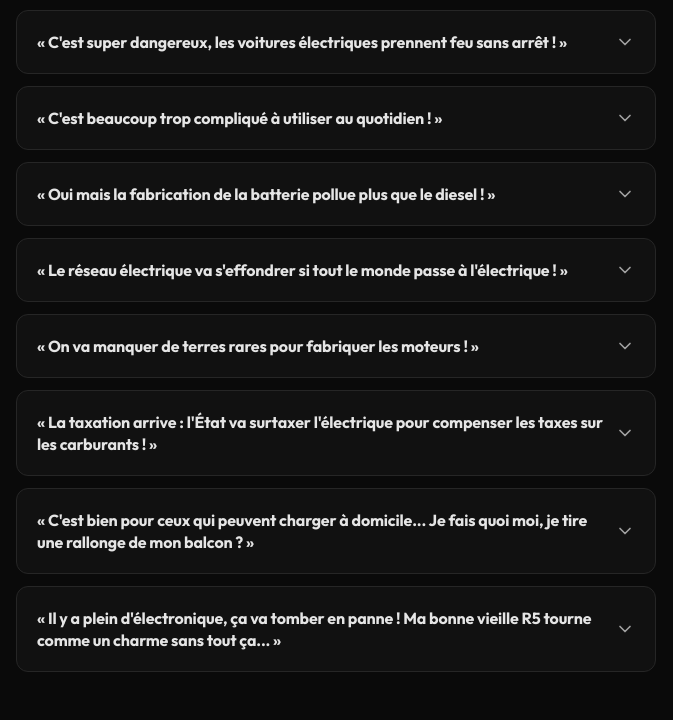
Composant AntiBiasFAQ › affiche la question sur la taxation et permet de consulter les explications et la source Automobile Propre
The image size is (673, 720).
(page scrolled)
# Clic pour ouvrir
Click the button "La taxation arrive" at (336, 433), box [17,391,655,475]
(page scrolled)
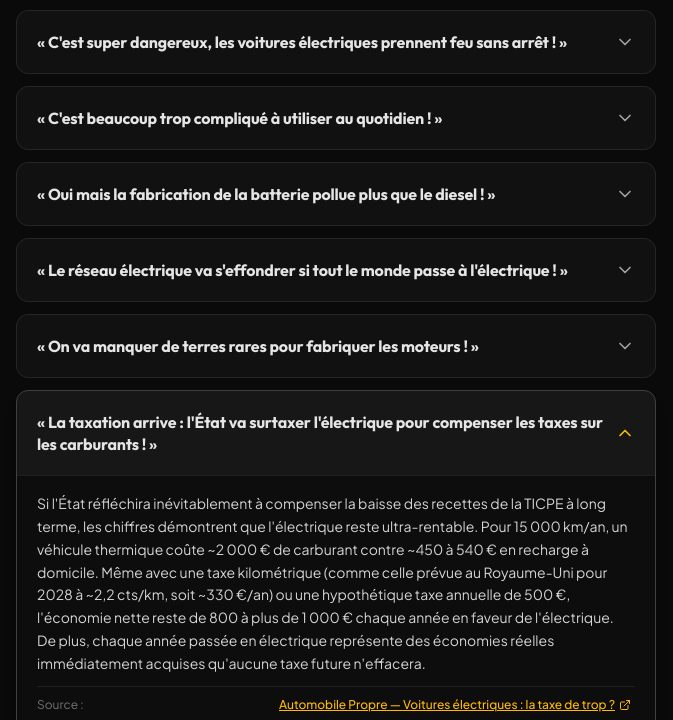
Result: the text "Si l'État réfléchira inévitablement à compenser la baisse des recettes de la TICPE" is shown at [37,494,628,672]
Result: the link "Automobile Propre — Voitures électriques : la taxe de trop ?" is shown at [275,695,635,715]
